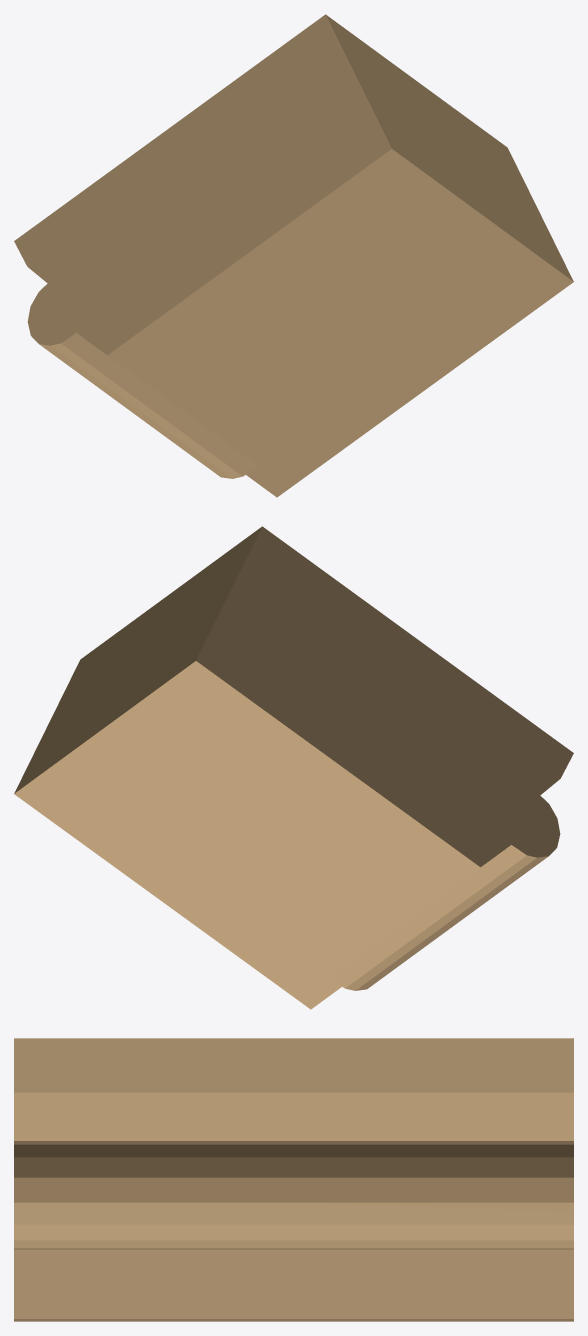
3 views of the same model, one above another, from view 1: azimuth 30°, elevation 25°; view 2: azimuth 150°, elevation 25°; view 3: azimuth 270°, elevation 25° (orthographic). The views are drawn at different scales.
Visible parts, largest first — view 1: 0_1_0_2_0_2_0_0_2; view 2: 0_1_0_2_0_2_0_0_2; view 3: 0_1_0_2_0_2_0_0_2.
Part boxes in pixels (x1=…): 0_1_0_2_0_2_0_0_2: x1=14, y1=14, x2=573, y2=497; 0_1_0_2_0_2_0_0_2: x1=14, y1=526, x2=573, y2=1009; 0_1_0_2_0_2_0_0_2: x1=14, y1=1038, x2=573, y2=1321.
Bounding box in the file's own units: 35.96 × 26.71 × 30.
